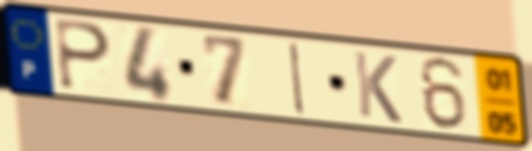4: (121, 22, 176, 105)
6: (417, 54, 470, 133)
7: (200, 33, 250, 110)
I: (287, 39, 308, 118)
K: (350, 48, 404, 127)
P: (52, 16, 114, 94)
